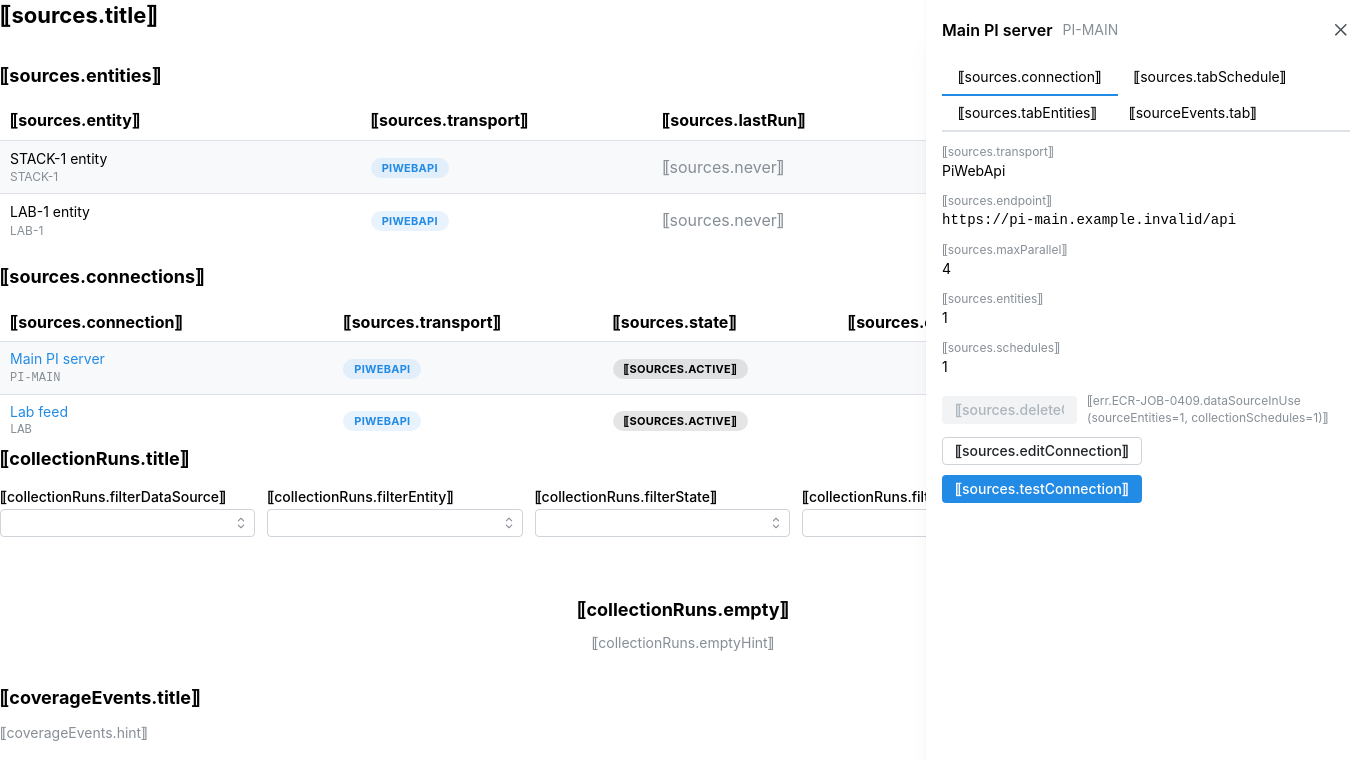
Test: Шухляда з'єднання: вкладка Schedule › ФВ-13.15: у переліку видно, від якого розкладу залежить рядок, а без залежності — «—»
Step 1. Click the tab "⟦sources.tabSchedule⟧" → (1210, 78), box [1118,60,1302,96]
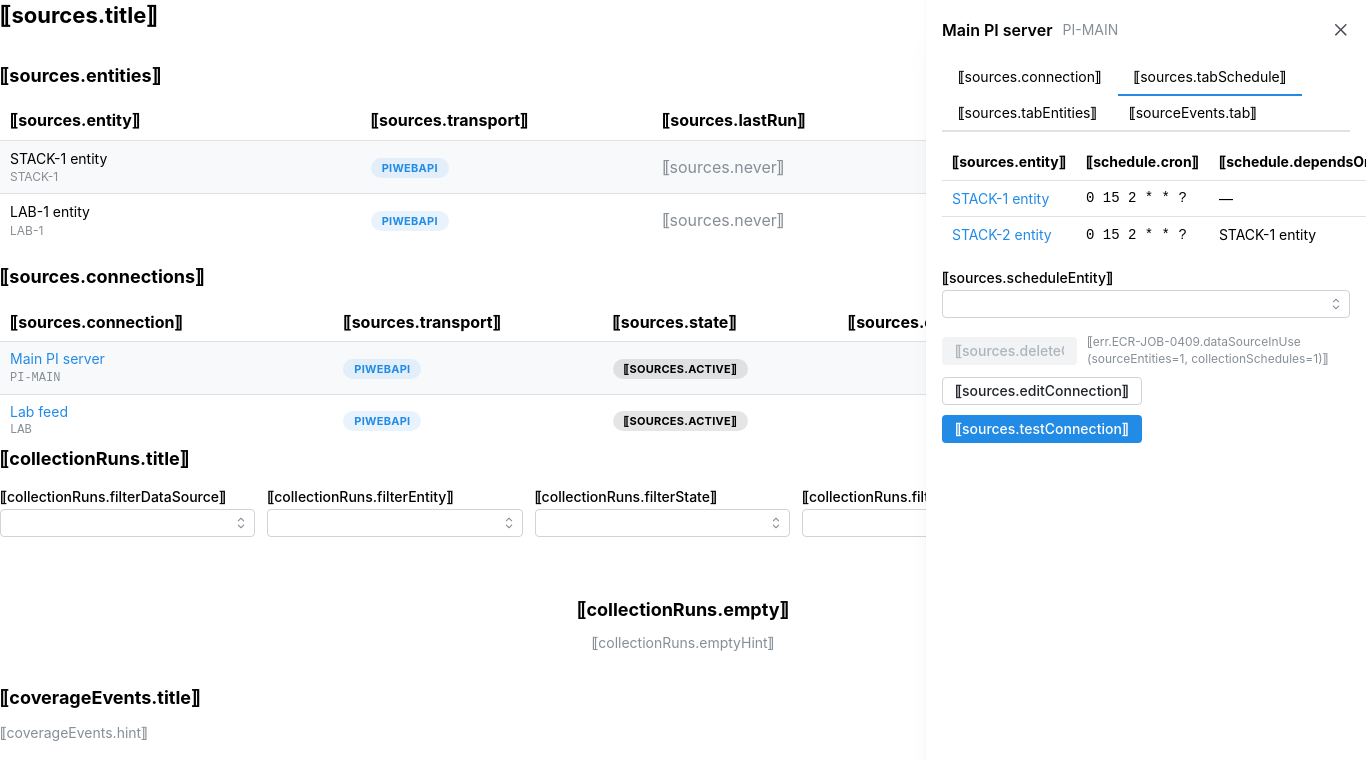
Result: the row "STACK-2 entity 0 15 2 * * ? STACK-1 entity" is shown at [942,217,1365,253]
Result: the button "STACK-1 entity" is shown at [952,189,1049,209]
